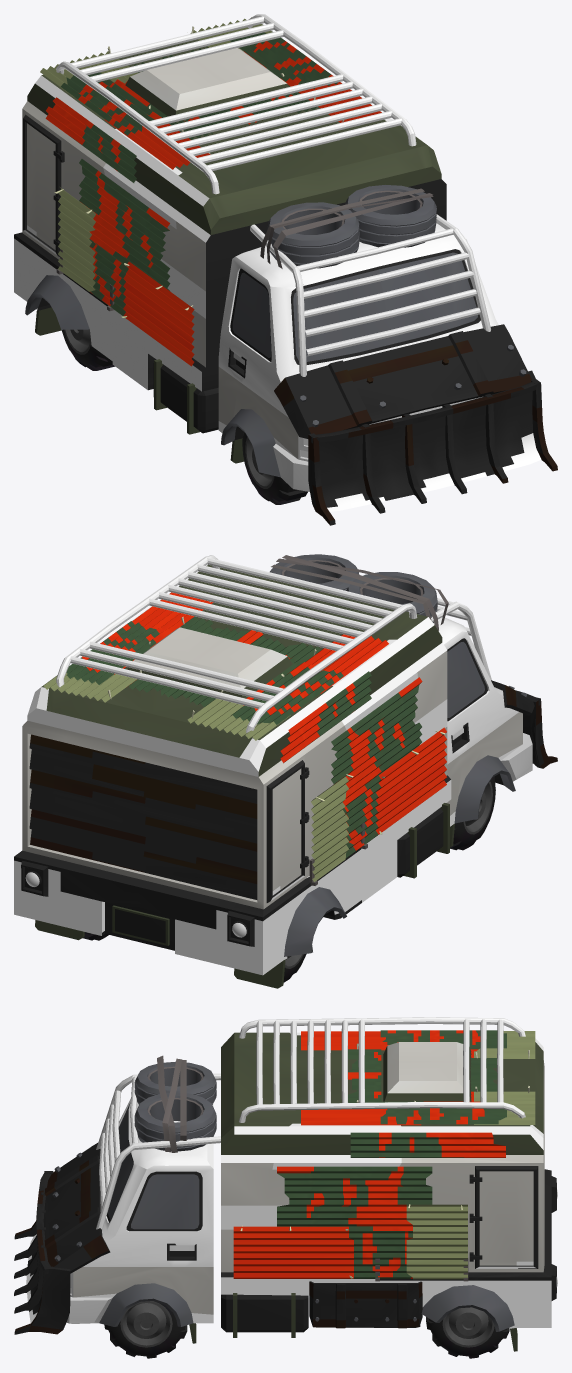
File: Vehicle_Truck_Armored.glb
3 views of the same model, one above another, from view 1: azimuth 30°, elevation 25°; view 2: azimuth 150°, elevation 25°; view 3: azimuth 270°, elevation 25° (orthographic). The views are drawn at different scales.
Parts seen in each view (by area): view 1: Truck_Armored, FrontWheel_R, BackWheels; view 2: Truck_Armored, FrontWheel_R; view 3: Truck_Armored, FrontWheel_L, BackWheels.
Boxes of the visible parts, left/top/right/bottom form: Truck_Armored: left=14, top=14, right=557, bottom=525; FrontWheel_R: left=242, top=432, right=307, bottom=504; BackWheels: left=61, top=329, right=114, bottom=370; Truck_Armored: left=14, top=554, right=557, bottom=988; FrontWheel_R: left=450, top=776, right=495, bottom=850; Truck_Armored: left=14, top=1017, right=557, bottom=1351; FrontWheel_L: left=104, top=1301, right=187, bottom=1358; BackWheels: left=426, top=1307, right=509, bottom=1358.
Size of the model in its own units: 2.98 by 2.9 by 5.59.
